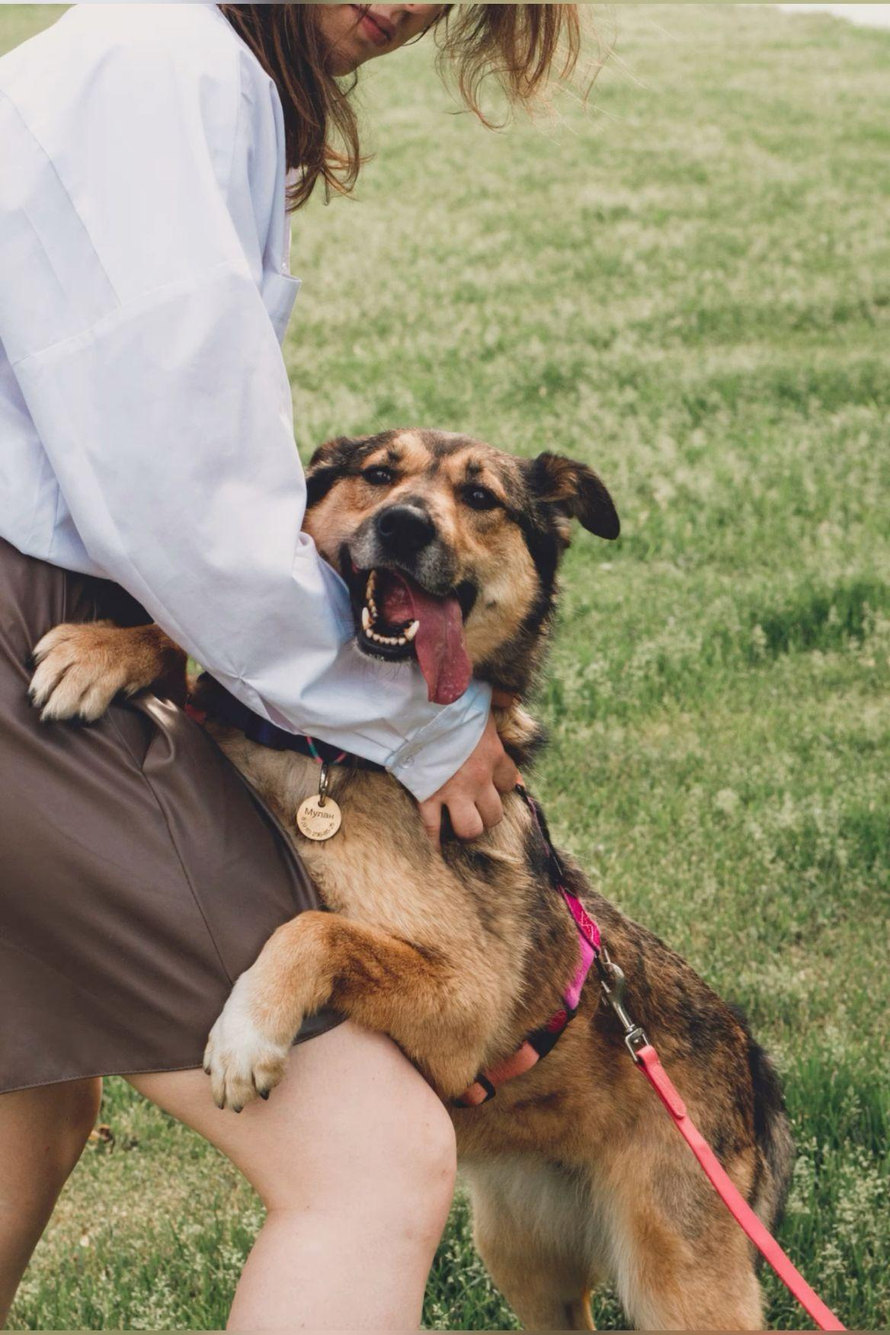adult_dog: (26, 428, 799, 1335)
non-dog: (0, 0, 586, 1334)
